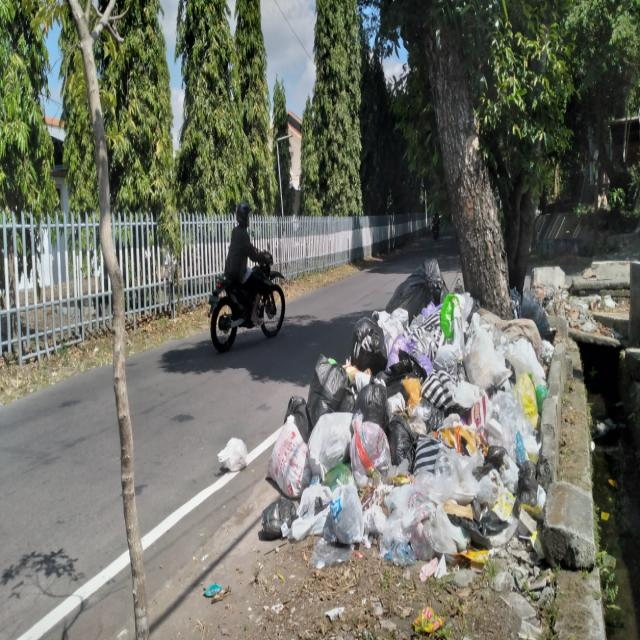trash: (282, 315, 597, 581)
